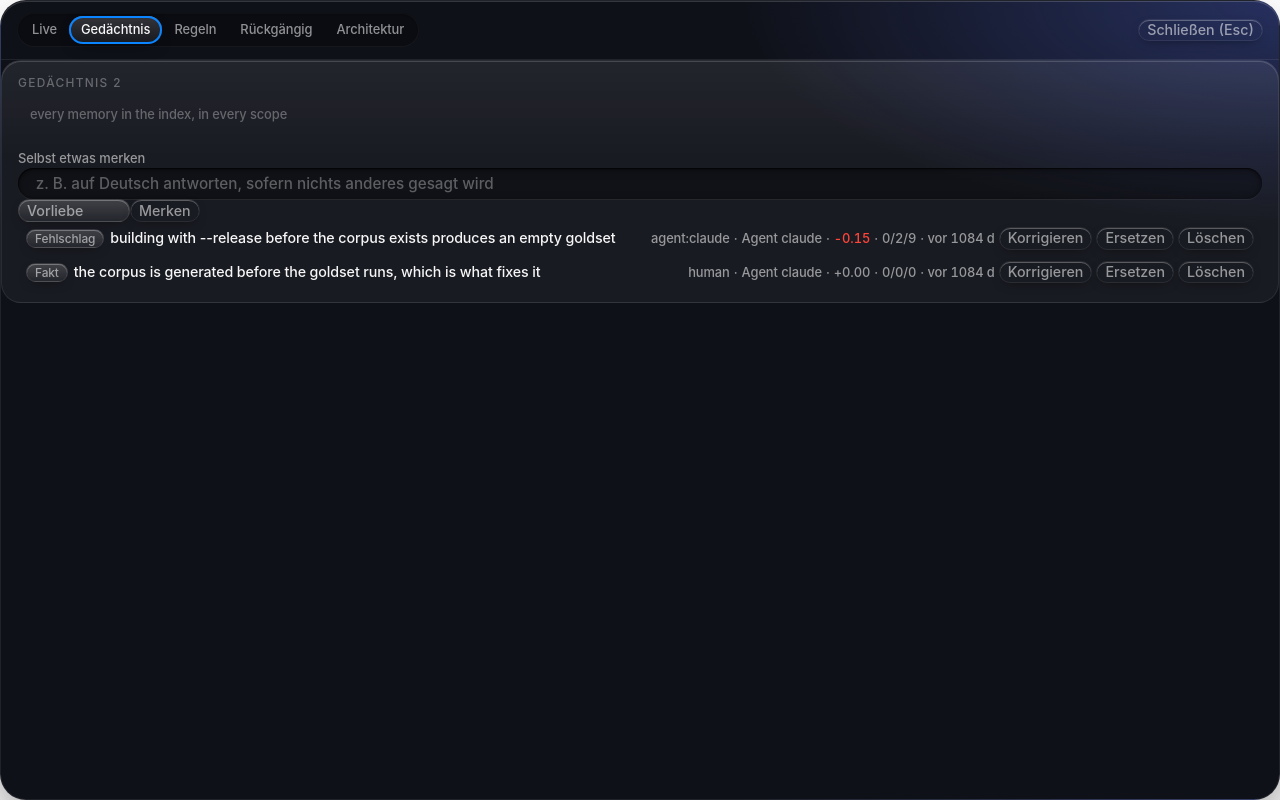
AgentInspector › deletes a memory only after the deletion is confirmed
Check: the text "empty goldset" is shown, box [110,229,616,246]
Step 1. Click the button "Löschen" in the row of "-0.15" → click(1216, 238), box [1178,227,1254,250]
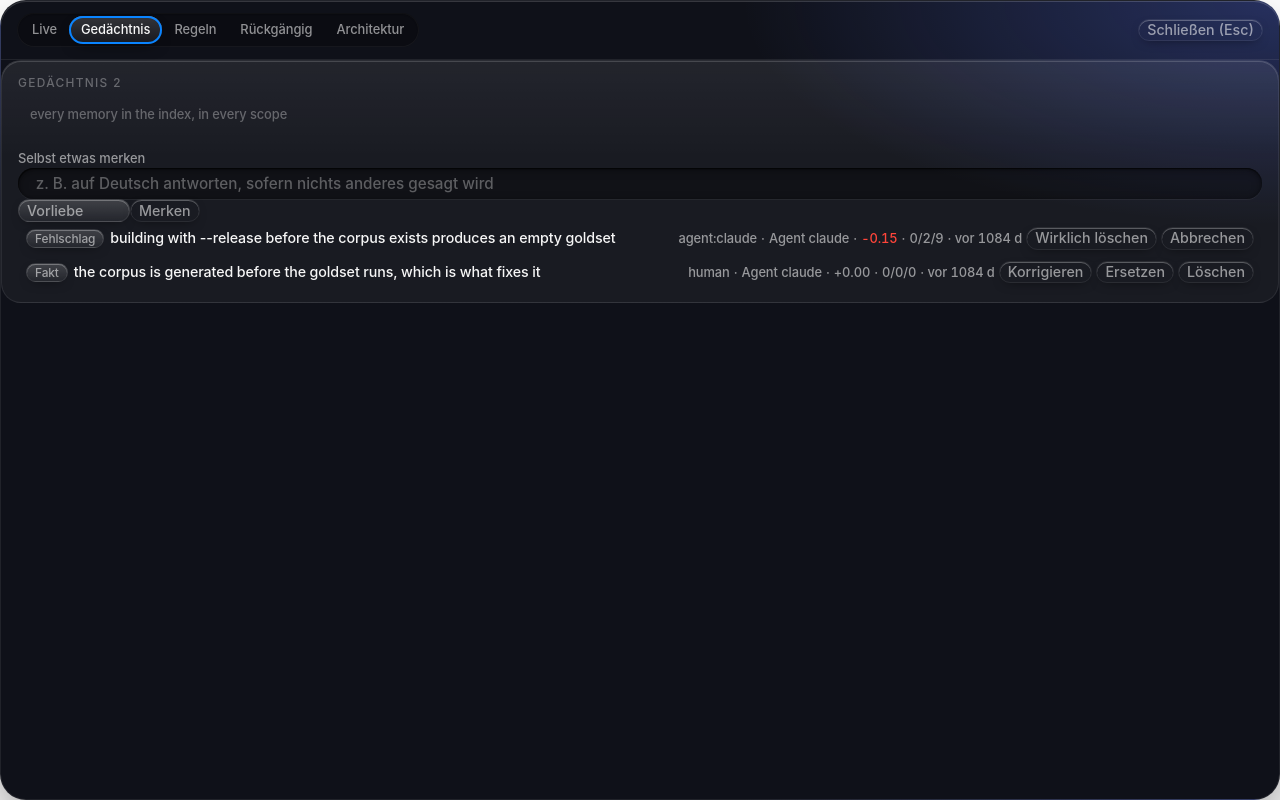
Step 2. Click the button "Wirklich löschen" → click(1092, 238), box [1026,227,1157,250]
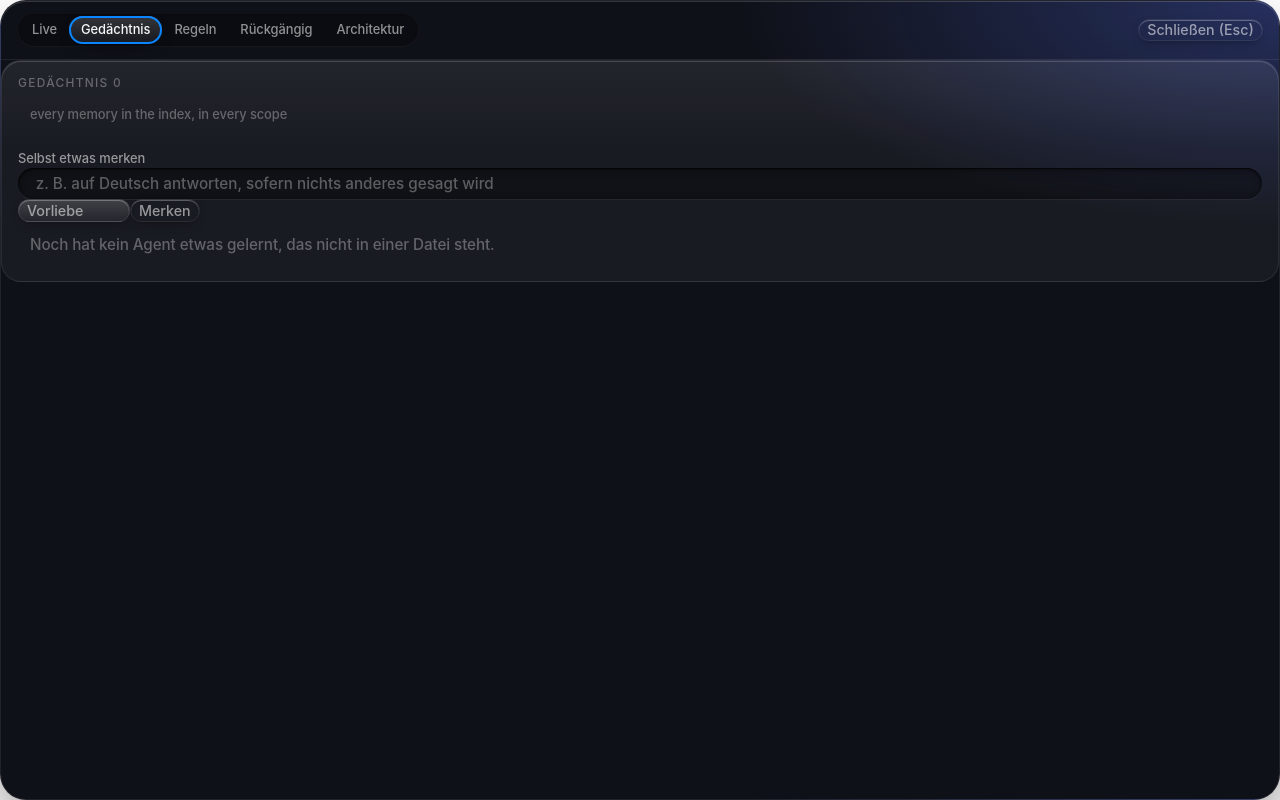
Check: the text "empty goldset" is gone
